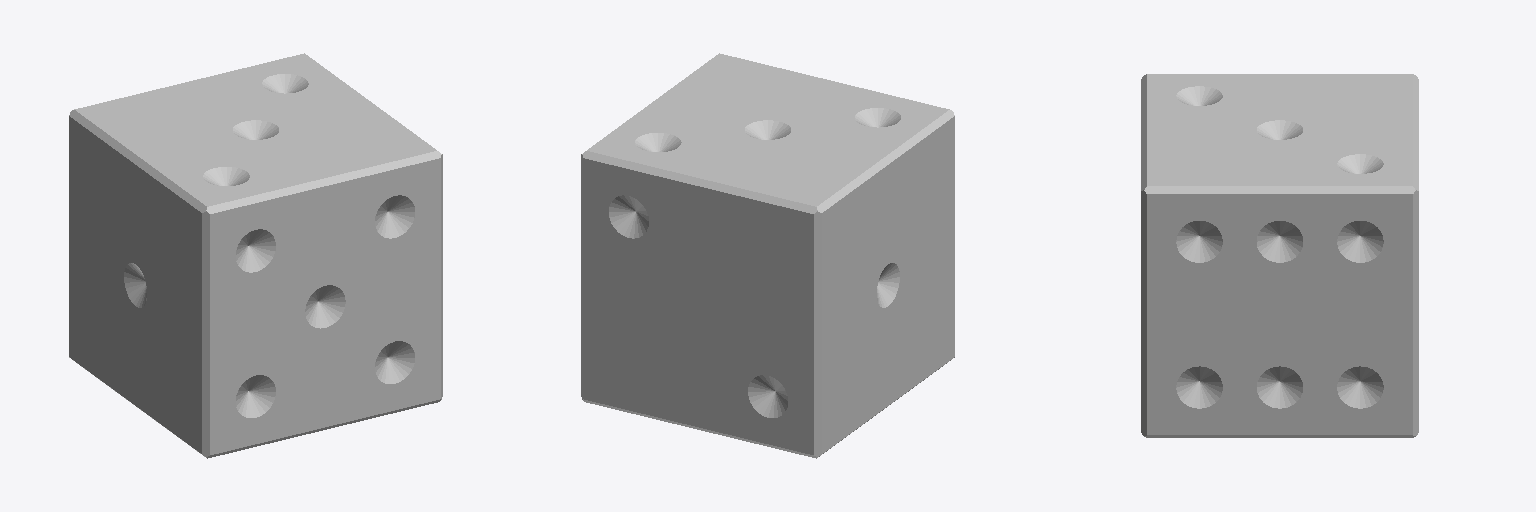
Rendered from The Dice.obj.
3 renders of one model, left to right at view 1: azimuth 30°, elevation 25°; view 2: azimuth 150°, elevation 25°; view 3: azimuth 270°, elevation 25°, orthographic.
Parts seen in each view (by area): view 1: Dice; view 2: Dice; view 3: Dice.
Boxes of the visible parts, box(x1,y1,x2,y2) form: Dice: box(69, 53, 442, 458); Dice: box(581, 53, 954, 458); Dice: box(1141, 74, 1418, 437).
Size of the model in its own units: 2.41 by 2.41 by 2.41.